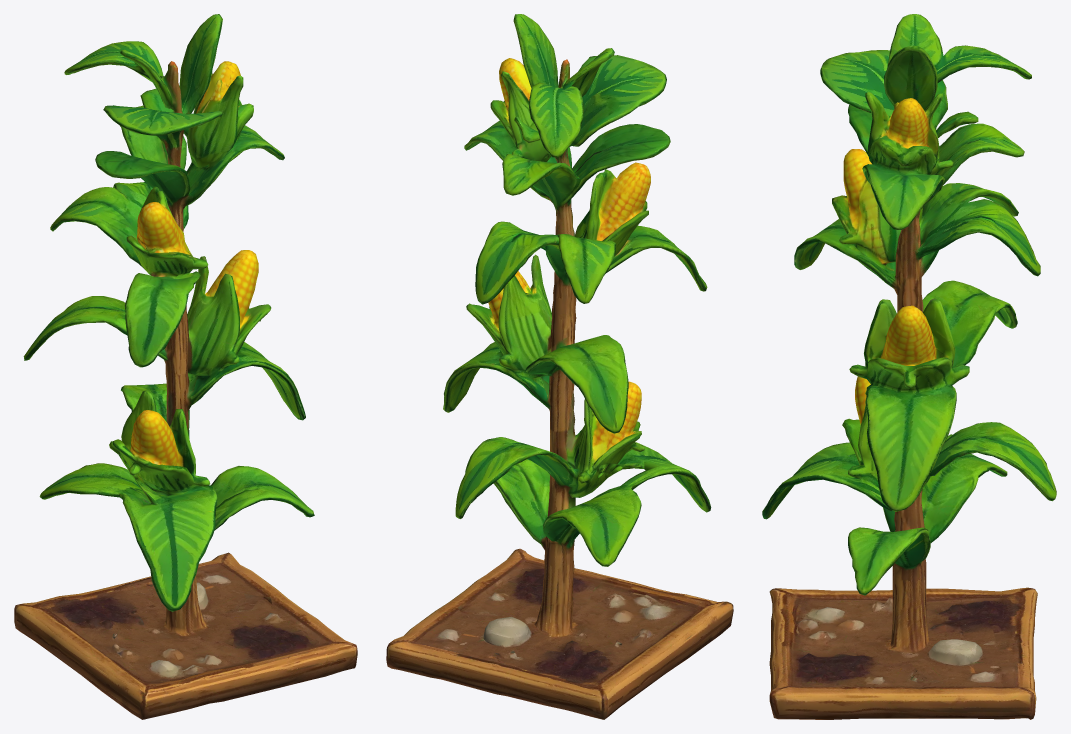
Rendered from corn.glb.
The picture shows the model from 3 angles, left to right: view 1: azimuth 30°, elevation 25°; view 2: azimuth 150°, elevation 25°; view 3: azimuth 270°, elevation 25°; orthographic projection. The views are drawn at different scales.
Size of the model in its own units: 0.7241 by 1.91 by 0.7945.
1 material, 1 textured.
